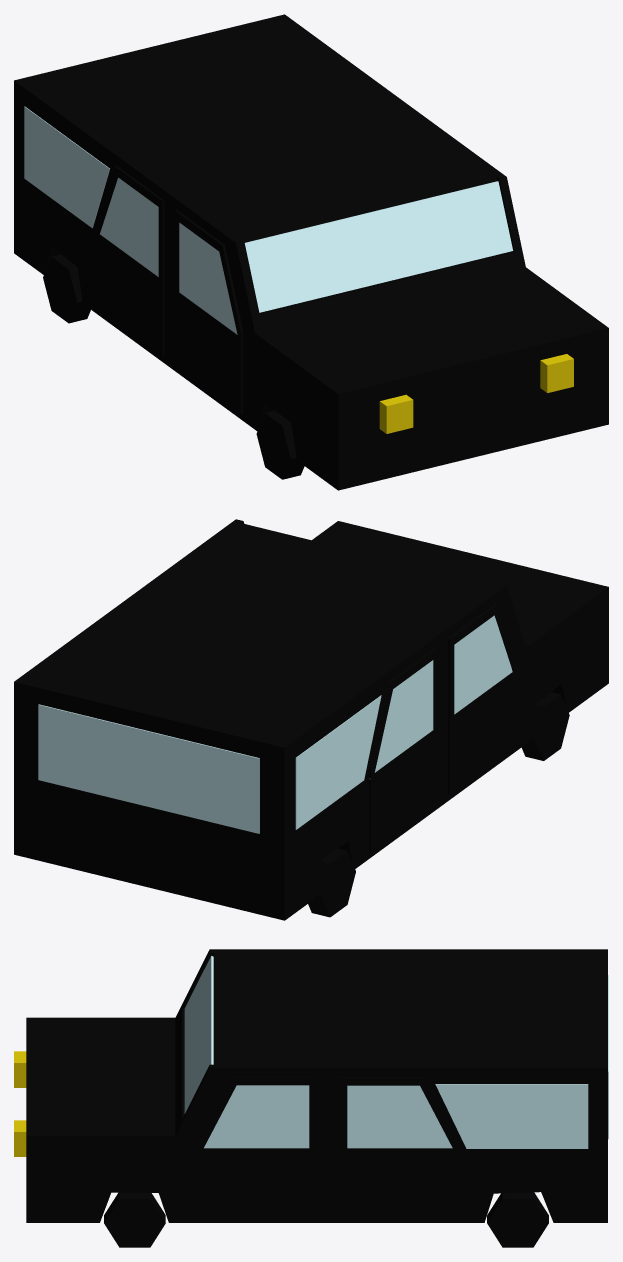
The model's file is CocheFunebre.fbx.
3 renders of one model, top to bottom at view 1: azimuth 30°, elevation 25°; view 2: azimuth 150°, elevation 25°; view 3: azimuth 270°, elevation 25°, orthographic. The views are drawn at different scales.
Visible parts, largest first — view 1: Cube, Cube.010, Cube.004, Cube.005, Cube.011, Cube.009, Cube.008, Cube.002, Cylinder.002, Cylinder.003; view 2: Cube, Cube.013, Cube.004, Cube.005, Cube.011, Cube.009, Cube.008, Cylinder.003, Cylinder.002; view 3: Cube, Cube.001, Cube.003, Cube.012, Cube.006, Cube.007, Cube.010, Cylinder.001, Cylinder, Cube.002.
Boxes of the visible parts, x1,y1,x2,y2 form: Cube: [14, 14, 608, 490]; Cube.010: [244, 181, 513, 312]; Cube.004: [174, 209, 243, 414]; Cube.005: [96, 165, 164, 356]; Cube.011: [24, 106, 109, 228]; Cube.009: [100, 177, 158, 276]; Cube.008: [179, 222, 237, 334]; Cube.002: [379, 354, 573, 433]; Cylinder.002: [256, 411, 304, 479]; Cylinder.003: [43, 254, 90, 323]; Cube: [14, 519, 608, 920]; Cube.013: [38, 704, 259, 833]; Cube.004: [447, 603, 516, 794]; Cube.005: [369, 648, 437, 852]; Cube.011: [295, 695, 381, 829]; Cube.009: [369, 660, 433, 779]; Cube.008: [454, 615, 512, 714]; Cylinder.003: [308, 848, 355, 917]; Cylinder.002: [521, 692, 569, 760]; Cube: [26, 949, 607, 1222]; Cube.001: [339, 1077, 458, 1217]; Cube.003: [197, 1077, 316, 1216]; Cube.012: [435, 1084, 588, 1148]; Cube.006: [204, 1085, 309, 1148]; Cube.007: [347, 1085, 452, 1148]; Cube.010: [184, 956, 213, 1113]; Cylinder.001: [487, 1192, 548, 1247]; Cylinder: [104, 1192, 165, 1247]; Cube.002: [14, 1051, 26, 1156].
Size of the model in its own units: 173 by 119 by 359.
